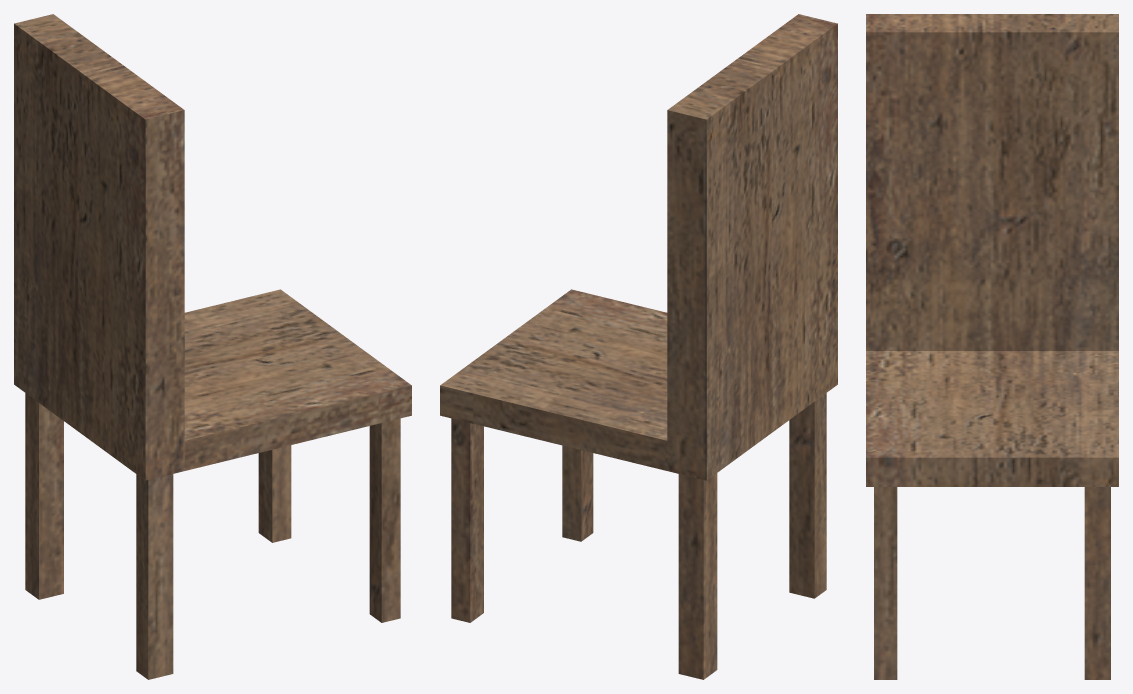
The model's file is chair.fbx.
The picture shows the model from 3 angles, left to right: view 1: azimuth 30°, elevation 25°; view 2: azimuth 150°, elevation 25°; view 3: azimuth 270°, elevation 25°; orthographic projection. The views are drawn at different scales.
Visible parts, largest first — view 1: Cube; view 2: Cube; view 3: Cube.
Part boxes in pixels (bbox=[...]): Cube: bbox=[14, 14, 411, 679]; Cube: bbox=[440, 14, 837, 679]; Cube: bbox=[866, 14, 1118, 679].
Bounding box in the file's own units: 287 × 581 × 245.
